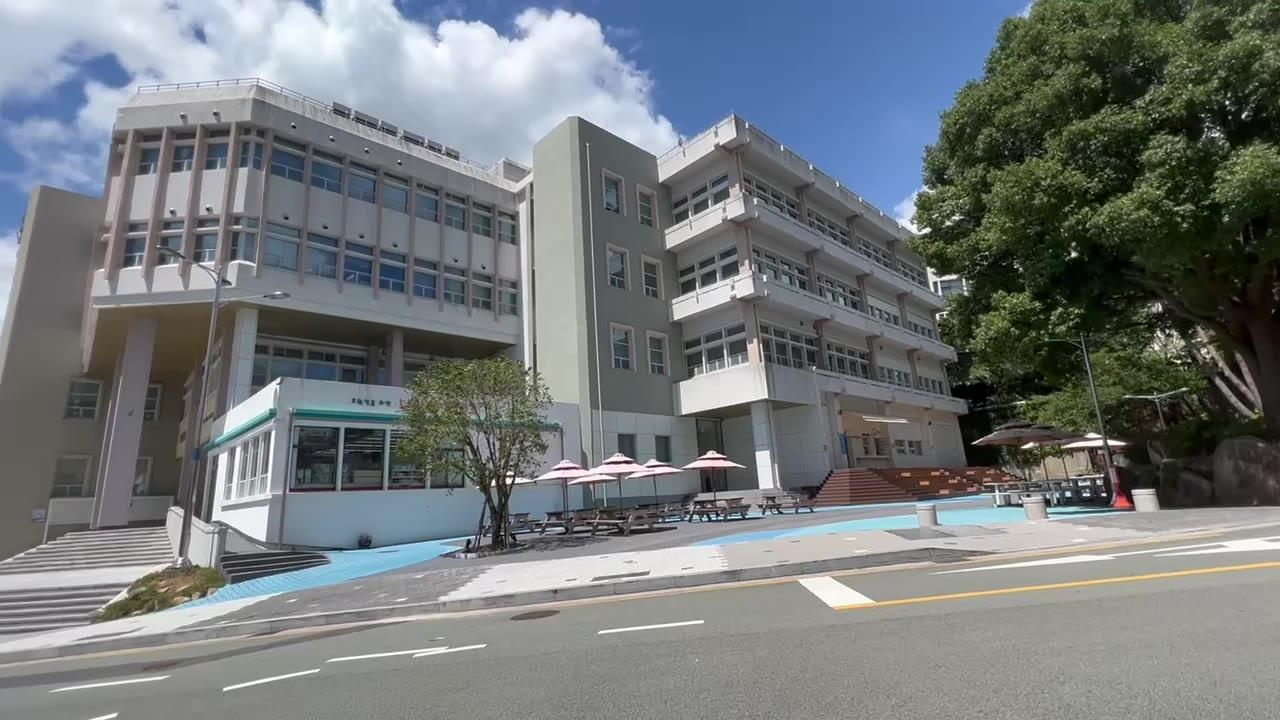building: (17, 52, 931, 475)
